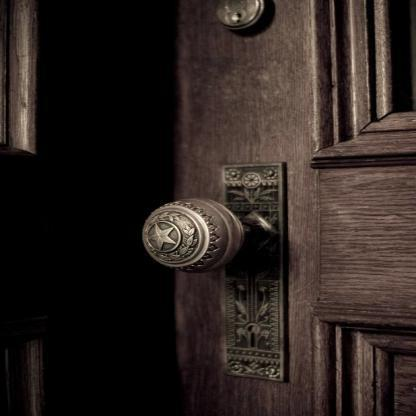door: (134, 0, 415, 415)
knob: (136, 196, 244, 280)
